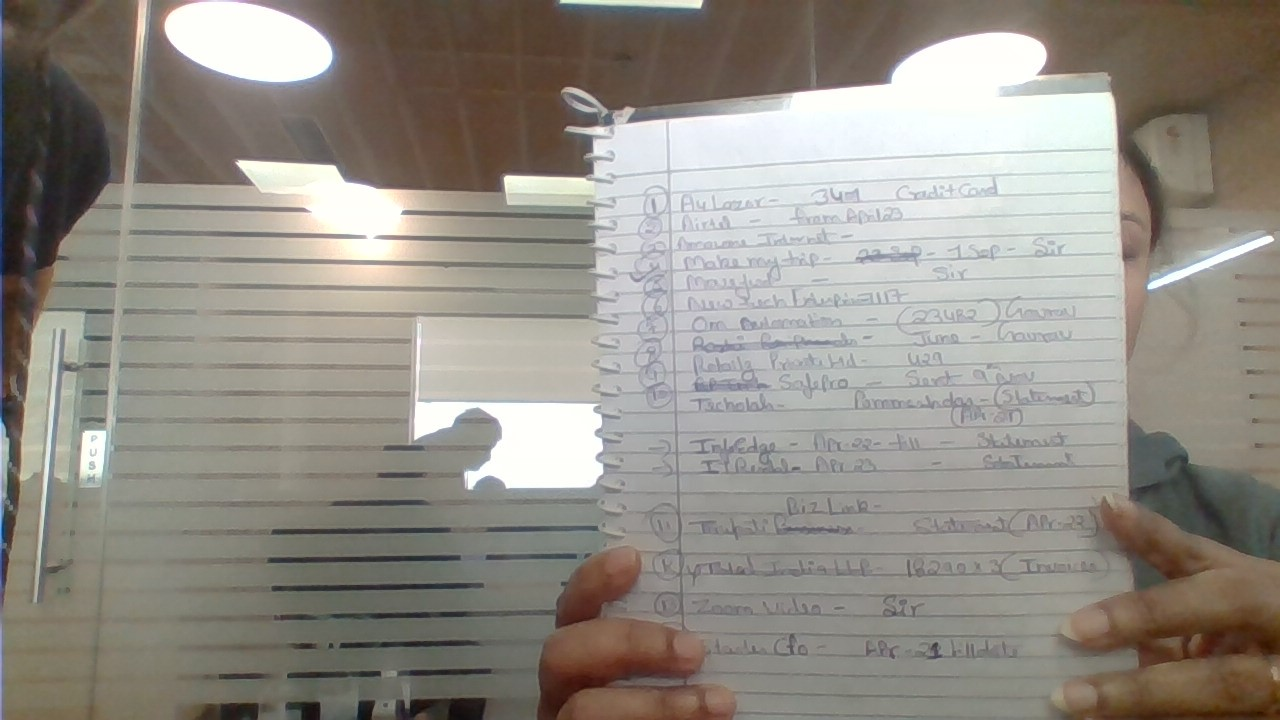partial: (583, 77, 1163, 720)
